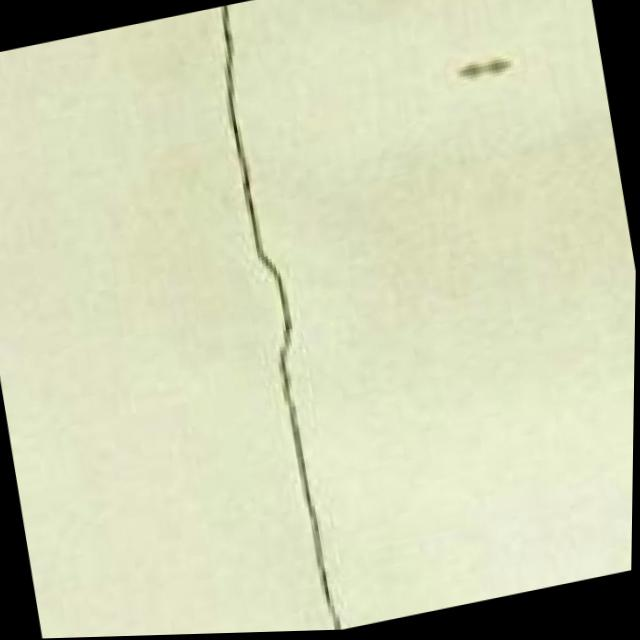Crack: (173, 0, 403, 636)
